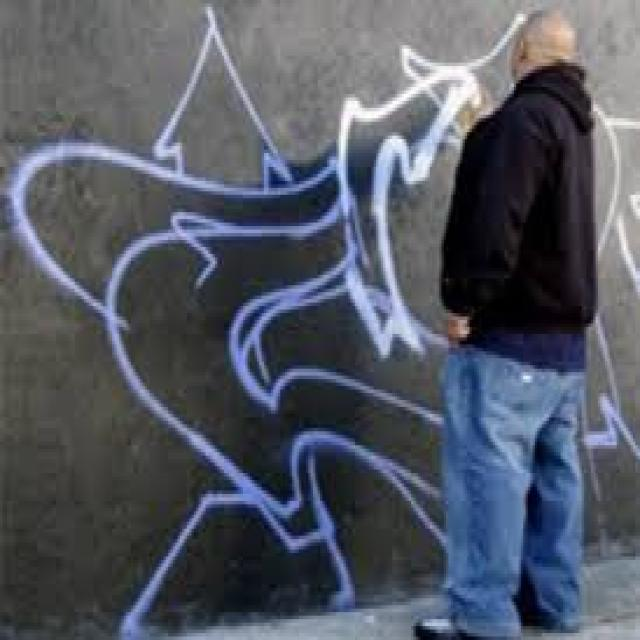-: (16, 11, 640, 628)
